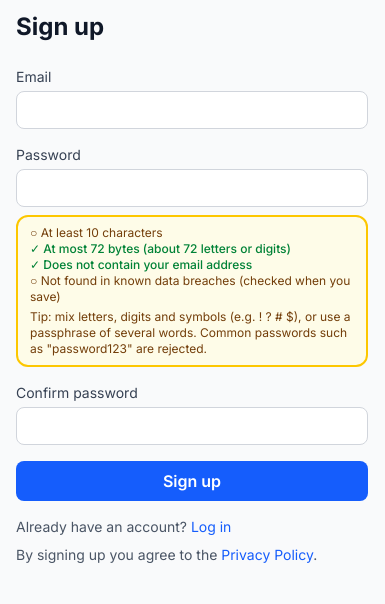
Test: RegisterPage › rejects a password containing the email without a request
This screenshot has width=385, height=604.
Type "janedoe@site.org" into the field with test id "register-email" at (192,110), box [16,91,368,129]
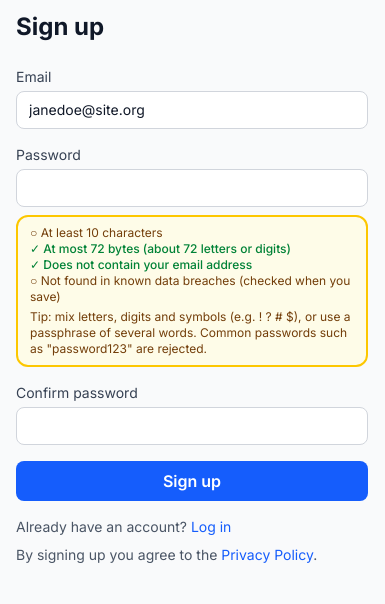
Type "my-janedoe-pass" into the password field with test id "register-password" at (192,188), box [16,169,368,207]
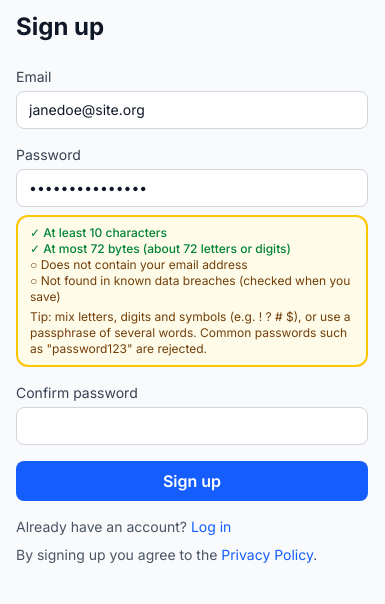
Check: the list item with test id "password-rule-no-email" has attribute data-met="false", box [30,257,248,272]
Type "my-janedoe-pass" into the password field with test id "register-password-confirm" at (192,426), box [16,407,368,445]
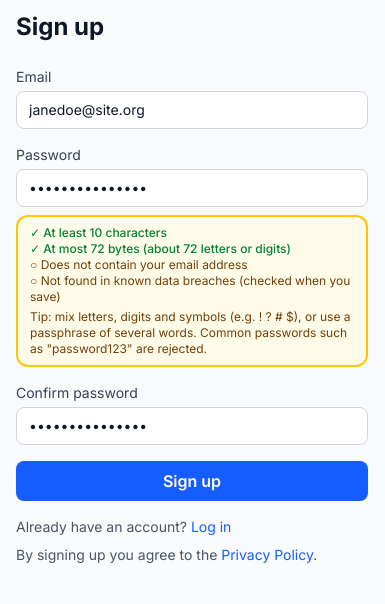
Click the button with test id "register-submit" at (192,481), box [16,461,368,501]
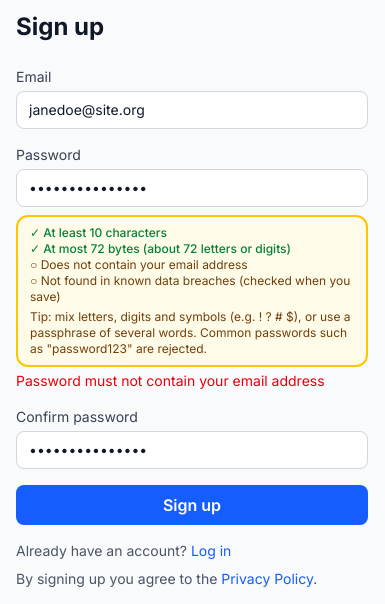
Check: the message with test id "field-error-password" shows "must not contain your email", box [16,372,325,389]
